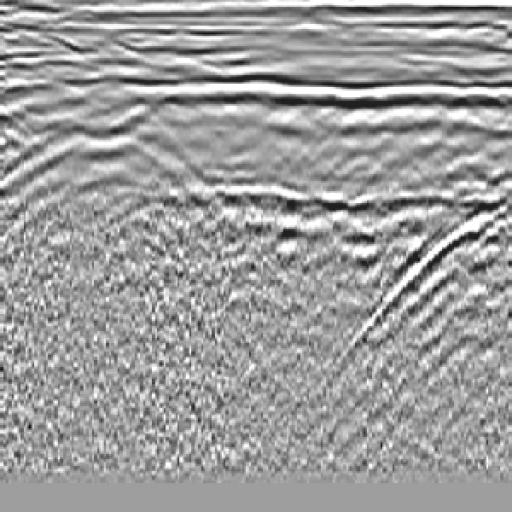metalic: (1, 85, 201, 281)
non-metallic: (356, 142, 512, 381)
